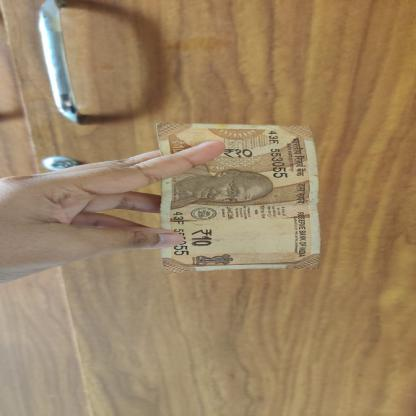New10Front: (153, 120, 328, 274)
